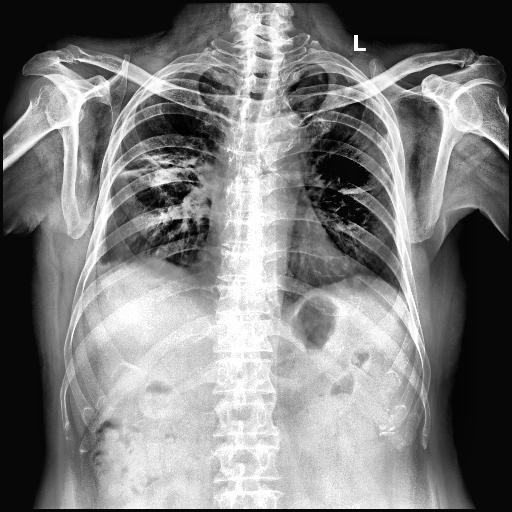0- Aortic enlargement: (256, 108, 306, 182)
10- Pleural effusion: (90, 249, 143, 282), (84, 248, 124, 288), (80, 246, 114, 282)
11- Pleural thickening: (90, 249, 143, 282), (84, 248, 124, 288), (80, 246, 114, 282)
13- Pulmonary fibrosis: (113, 146, 199, 184), (118, 148, 199, 186), (152, 204, 202, 260), (116, 156, 196, 178), (336, 178, 379, 199), (337, 182, 378, 196)
6- Infiltration: (118, 148, 199, 186)
7- Lung Opacity: (340, 184, 379, 196)
